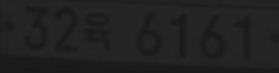1: (235, 17, 257, 58), (171, 14, 193, 54)
2: (54, 7, 76, 51)
3: (23, 6, 47, 48)
6: (198, 14, 224, 57), (136, 12, 161, 55)
육: (84, 10, 110, 54)
